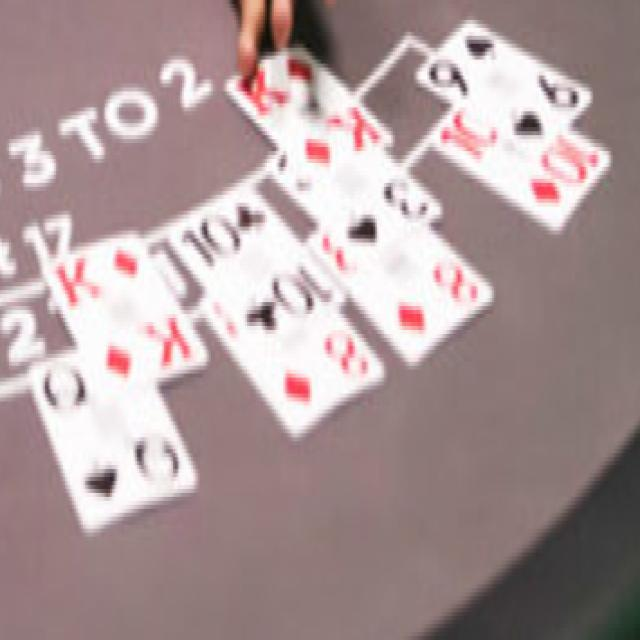Card-10: (170, 180, 346, 361), (433, 103, 611, 233)
Card-3: (267, 145, 443, 273)
Card-8: (198, 291, 387, 444), (307, 222, 494, 369)
Card-9: (415, 11, 593, 155)
Card-K: (45, 229, 209, 409), (226, 40, 394, 189)
Card-Q: (29, 346, 197, 532)
